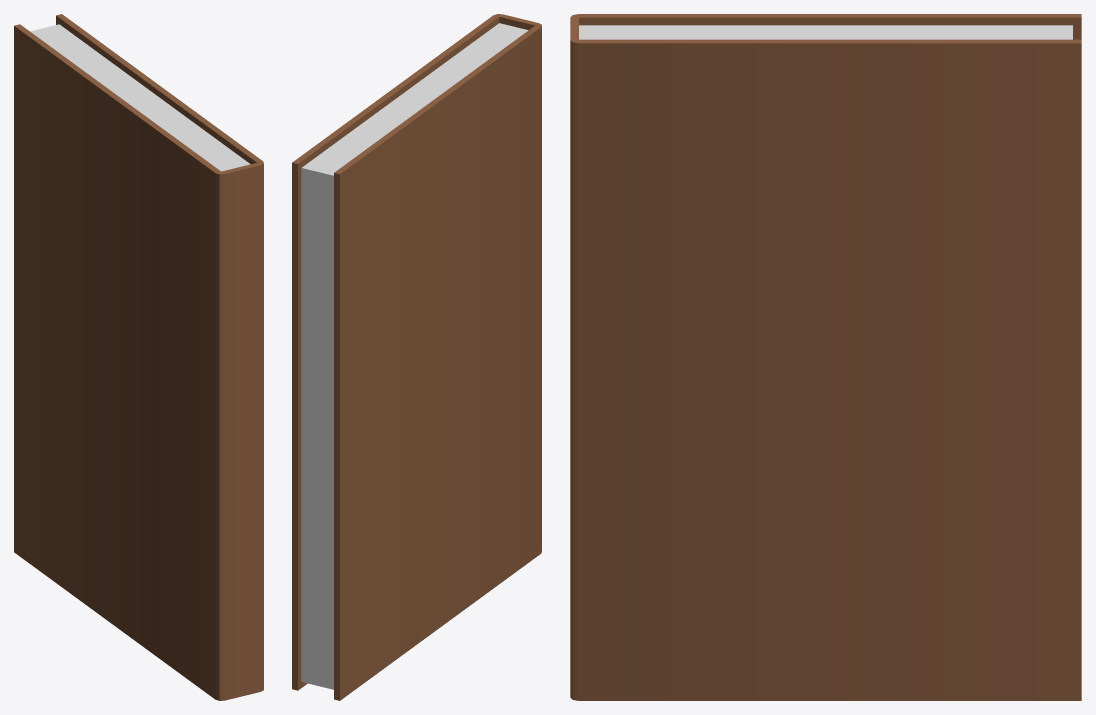
The model's file is hardcover.glb.
3 renders of one model, left to right at view 1: azimuth 30°, elevation 25°; view 2: azimuth 150°, elevation 25°; view 3: azimuth 270°, elevation 25°, orthographic. The views are drawn at different scales.
Visible parts, largest first — view 1: Book; view 2: Book; view 3: Book.
Part boxes in pixels (x1,y1,x2,y2): Book: (14, 14, 263, 700); Book: (292, 14, 541, 700); Book: (570, 14, 1081, 700).
Bounding box in the file's own units: 0.02 × 0.21 × 0.148.
